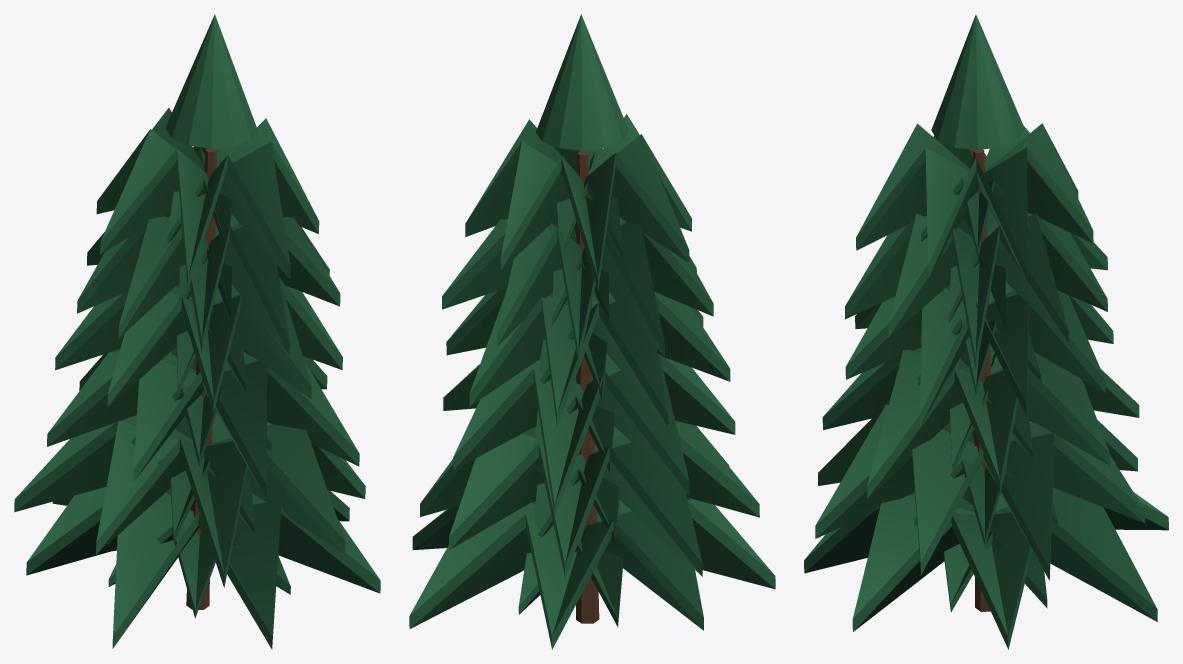
The model's file is tree_pine_a_medium.glb.
The picture shows the model from 3 angles, left to right: view 1: azimuth 30°, elevation 25°; view 2: azimuth 150°, elevation 25°; view 3: azimuth 270°, elevation 25°; orthographic projection.
Parts seen in each view (by area): view 1: Canopy, Trunk; view 2: Canopy, Trunk; view 3: Canopy, Trunk.
Boxes of the visible parts, box(x1,y1,x2,y2) form: Canopy: box(14, 14, 380, 649); Trunk: box(186, 148, 216, 609); Canopy: box(409, 14, 775, 649); Trunk: box(576, 151, 599, 623); Canopy: box(804, 14, 1168, 649); Trunk: box(972, 149, 991, 611).
Size of the model in its own units: 6.21 by 11.3 by 6.24.
1 material, 1 textured.
